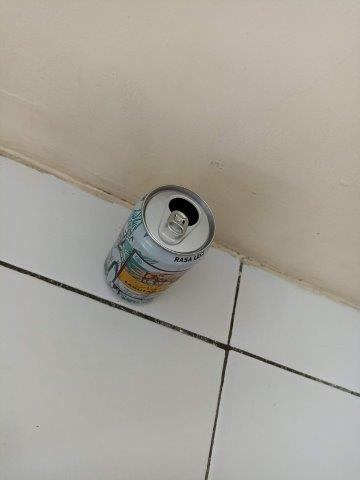kaleng: (104, 184, 217, 307)
